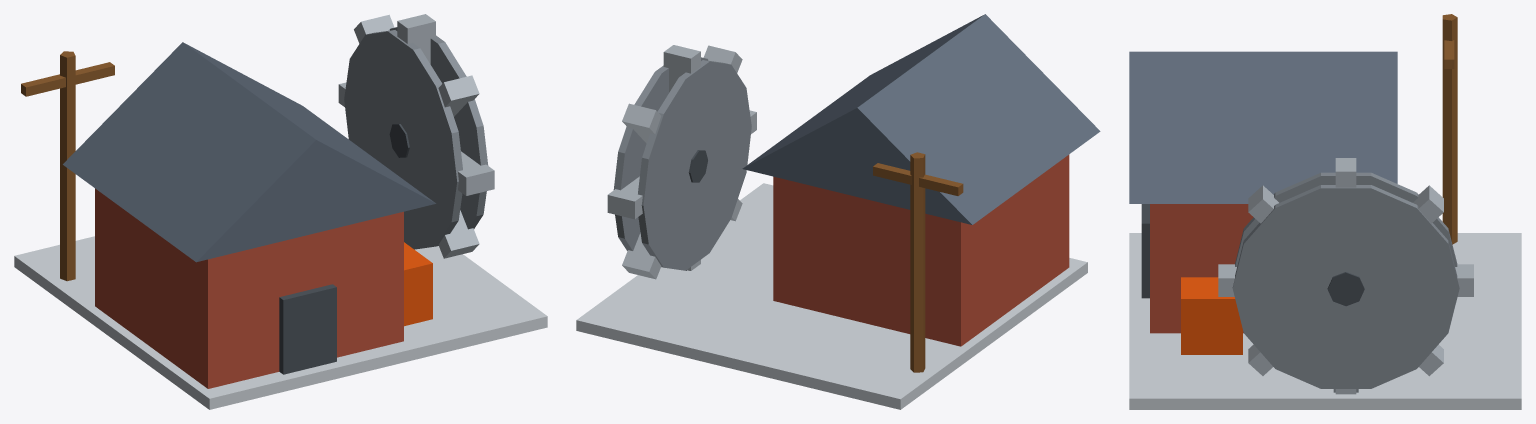
File: waterwheel_1.glb
The picture shows the model from 3 angles, left to right: view 1: azimuth 30°, elevation 25°; view 2: azimuth 150°, elevation 25°; view 3: azimuth 270°, elevation 25°; orthographic projection. The views are drawn at different scales.
Parts seen in each view (by area): view 1: ardosia.001, tijolo.003, pedra_clara.002, wheel_roda_metal, wheel_pedra, madeira_escura.005, metal.003, telha.001, wheel_metal.001; view 2: ardosia.001, tijolo.003, pedra_clara.002, wheel_roda_metal, wheel_pedra, madeira_escura.005, wheel_metal.001; view 3: wheel_roda_metal, ardosia.001, pedra_clara.002, tijolo.003, telha.001, wheel_pedra, madeira_escura.005, wheel_metal.001, metal.003.
Boxes of the visible parts, bbox=[...] form: ardosia.001: bbox=[63, 42, 435, 262]; tijolo.003: bbox=[95, 188, 403, 388]; pedra_clara.002: bbox=[14, 236, 547, 409]; wheel_roda_metal: bbox=[344, 27, 488, 249]; wheel_pedra: bbox=[338, 14, 494, 258]; madeira_escura.005: bbox=[21, 51, 114, 281]; metal.003: bbox=[279, 284, 336, 374]; telha.001: bbox=[404, 242, 432, 326]; wheel_metal.001: bbox=[389, 124, 409, 157]; ardosia.001: bbox=[742, 14, 1100, 224]; tijolo.003: bbox=[773, 154, 1069, 346]; pedra_clara.002: bbox=[576, 183, 1087, 409]; wheel_roda_metal: bbox=[613, 57, 751, 270]; wheel_pedra: bbox=[607, 45, 756, 279]; madeira_escura.005: bbox=[873, 152, 963, 372]; wheel_metal.001: bbox=[688, 150, 707, 182]; wheel_roda_metal: bbox=[1232, 172, 1459, 388]; ardosia.001: bbox=[1129, 51, 1397, 203]; pedra_clara.002: bbox=[1129, 233, 1521, 409]; tijolo.003: bbox=[1150, 204, 1253, 333]; telha.001: bbox=[1181, 277, 1242, 354]; wheel_pedra: bbox=[1218, 158, 1473, 394]; madeira_escura.005: bbox=[1442, 14, 1457, 244]; wheel_metal.001: bbox=[1327, 272, 1364, 306]; metal.003: bbox=[1141, 204, 1149, 298].
Size of the model in its own units: 2.05 by 1.31 by 1.9.
